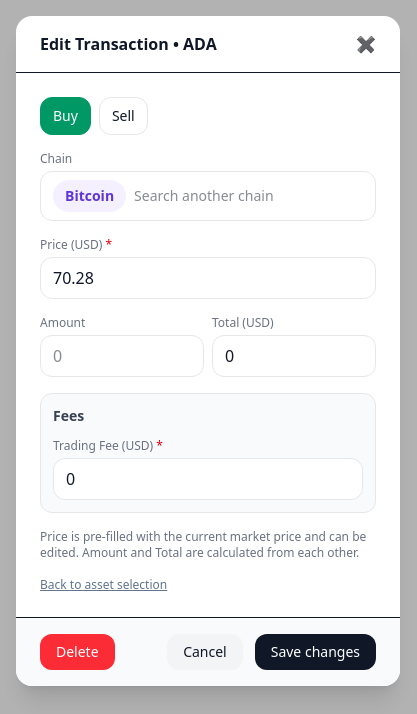
Test: Portfolio transaction UI › keeps total as amount times price when a fee is entered before the amount
This screenshot has width=417, height=714.
Type "1" into the field labelled "Trading Fee (USD) *" at point(208, 479), box [53,458,363,500]
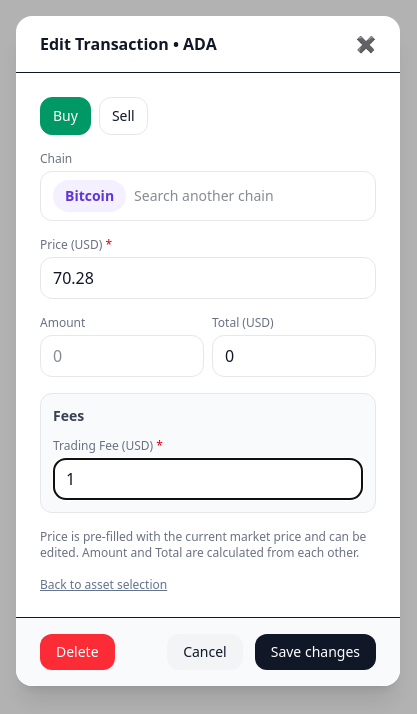
Type "1" into the field labelled "Amount" at point(122, 356), box [40,335,204,377]
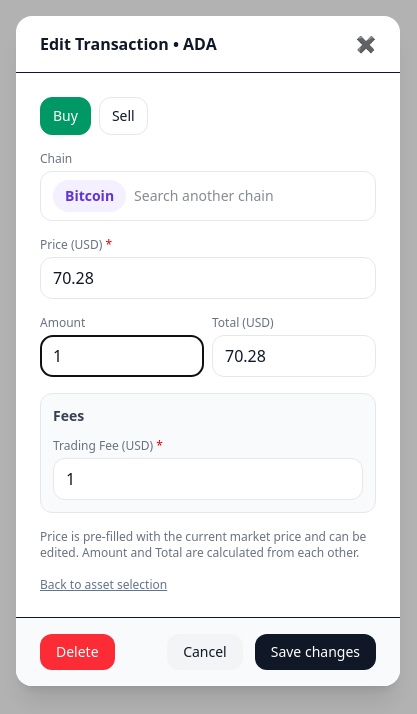
Check: the field labelled "Total (USD)" holds "70.28", box [212,335,376,377]
